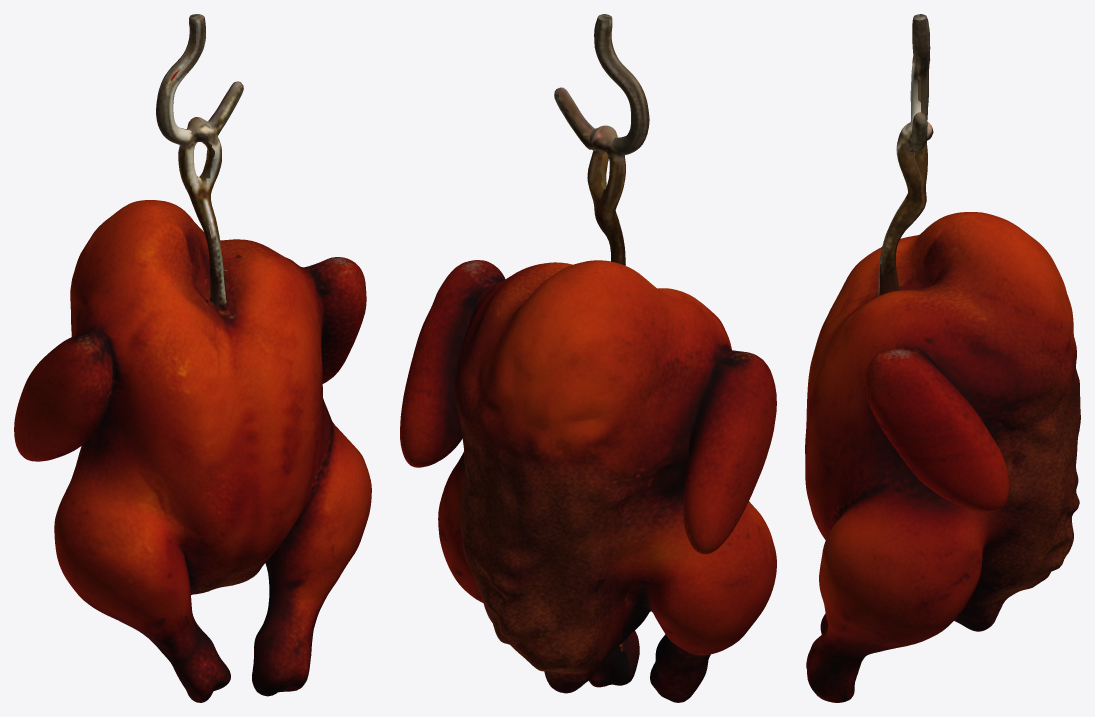
3 renders of one model, left to right at view 1: azimuth 30°, elevation 25°; view 2: azimuth 150°, elevation 25°; view 3: azimuth 270°, elevation 25°, orthographic. The views are drawn at different scales.
Parts seen in each view (by area): view 1: tmpzek1bj8n.ply; view 2: tmpzek1bj8n.ply; view 3: tmpzek1bj8n.ply.
Part boxes in pixels (x1,y1,x2,y2): tmpzek1bj8n.ply: [14, 14, 371, 702]; tmpzek1bj8n.ply: [400, 14, 776, 702]; tmpzek1bj8n.ply: [805, 14, 1080, 702].
Size of the model in its own units: 96.94 by 196 by 73.9.
1 material, 1 textured.
